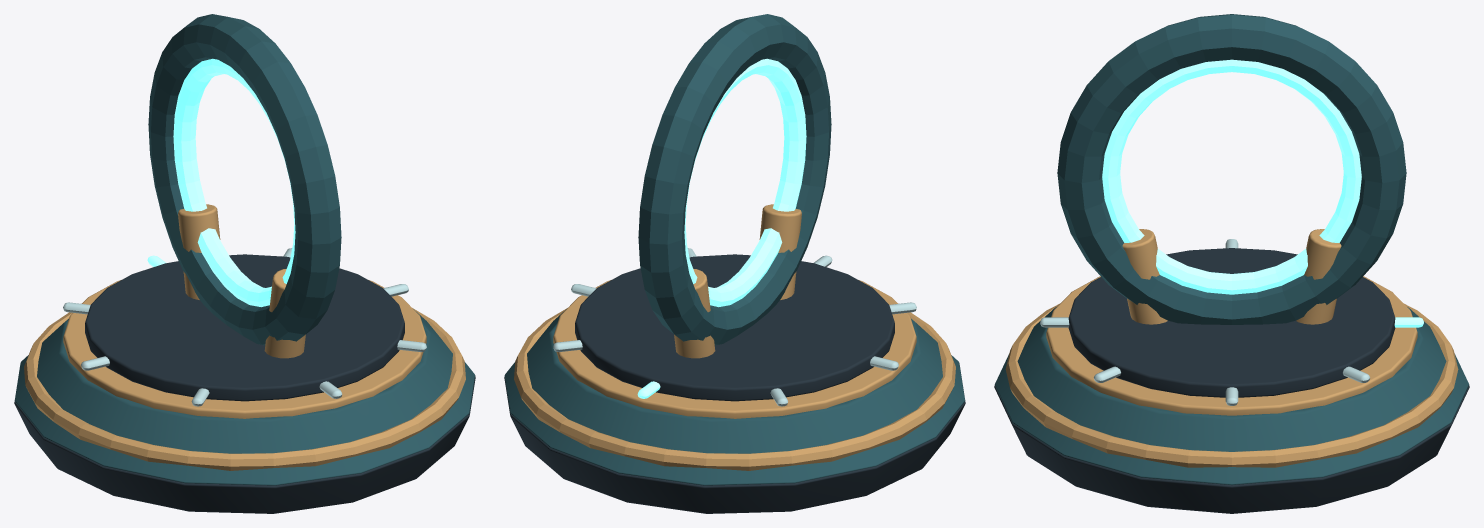
File: teleporter.glb
3 renders of one model, left to right at view 1: azimuth 30°, elevation 25°; view 2: azimuth 150°, elevation 25°; view 3: azimuth 270°, elevation 25°, orthographic. The views are drawn at different scales.
Visible parts, largest first — view 1: teleporter; view 2: teleporter; view 3: teleporter.
Boxes of the visible parts, x1,y1,x2,y2 form: teleporter: (14, 14, 475, 513); teleporter: (504, 14, 965, 513); teleporter: (994, 14, 1469, 513).
Bounding box in the file's own units: 1.08 × 1.01 × 1.08.
